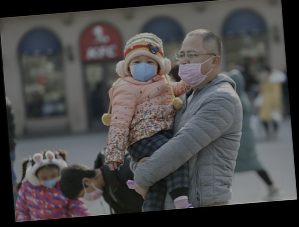mask_weared_incorrect: (175, 46, 213, 88)
with_mask: (127, 55, 159, 81), (76, 186, 106, 201), (38, 170, 59, 188)
